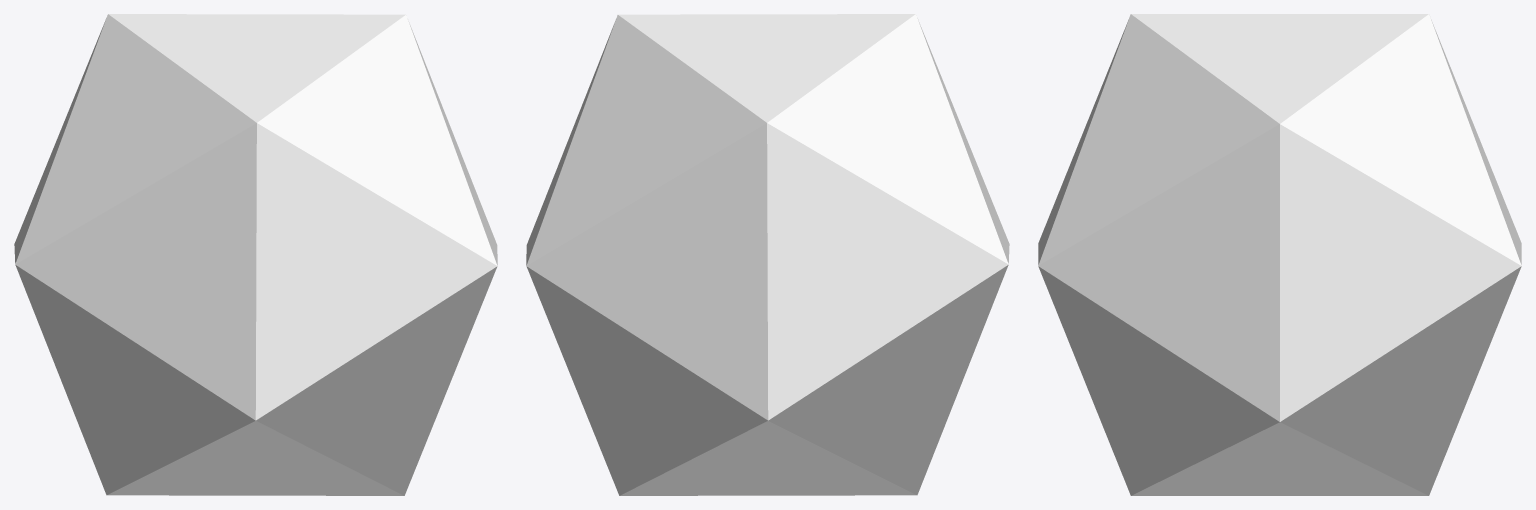
The model's file is dtwenty.obj.
The picture shows the model from 3 angles, left to right: view 1: azimuth 30°, elevation 25°; view 2: azimuth 150°, elevation 25°; view 3: azimuth 270°, elevation 25°; orthographic projection.
Visible parts, largest first — view 1: 000_Polyhedron_-_baked; view 2: 000_Polyhedron_-_baked; view 3: 000_Polyhedron_-_baked.
Part boxes in pixels (x1,y1,x2,y2): 000_Polyhedron_-_baked: (14,14,497,495); 000_Polyhedron_-_baked: (526,14,1009,495); 000_Polyhedron_-_baked: (1038,14,1521,495).
Bounding box in the file's own units: 0.692 × 0.561 × 0.6.
